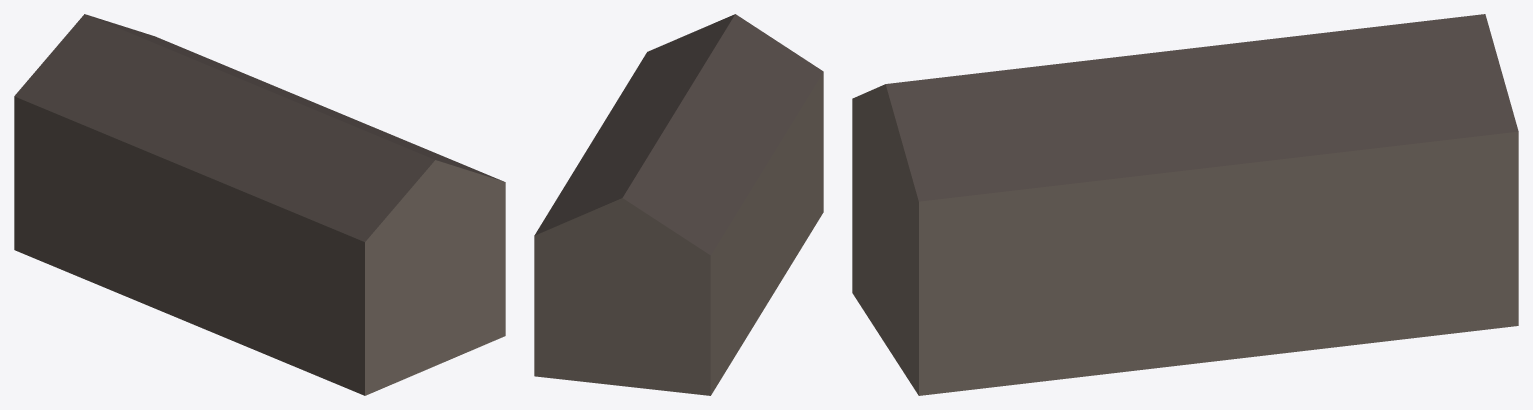
3 renders of one model, left to right at view 1: azimuth 30°, elevation 25°; view 2: azimuth 150°, elevation 25°; view 3: azimuth 270°, elevation 25°, orthographic. The views are drawn at different scales.
Parts seen in each view (by area): view 1: HP-w380339883; view 2: HP-w380339883; view 3: HP-w380339883.
Part boxes in pixels (x1,y1,x2,y2): HP-w380339883: (14,14,505,395); HP-w380339883: (534,14,823,395); HP-w380339883: (852,14,1518,395).
Size of the model in its own units: 11.46 by 8.04 by 18.65.
